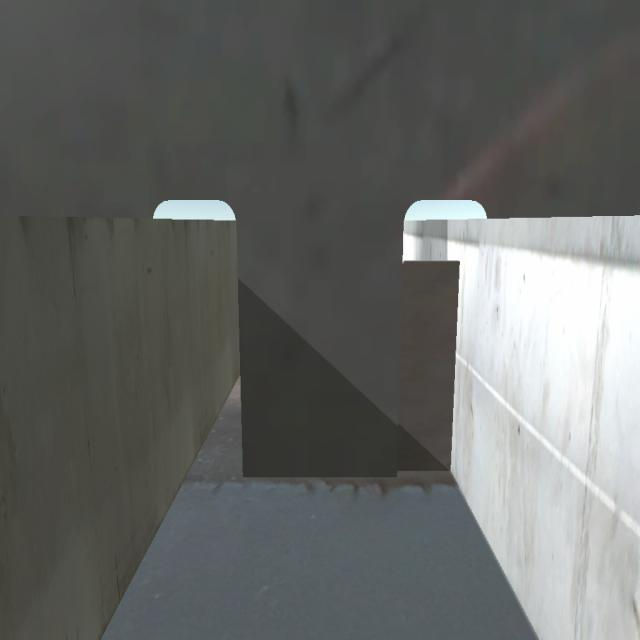fillet_yong_jeop_jang: (234, 463, 460, 489)
longi_yong_jeop_jang: (445, 252, 467, 476)
plate_behind: (401, 256, 461, 470)
